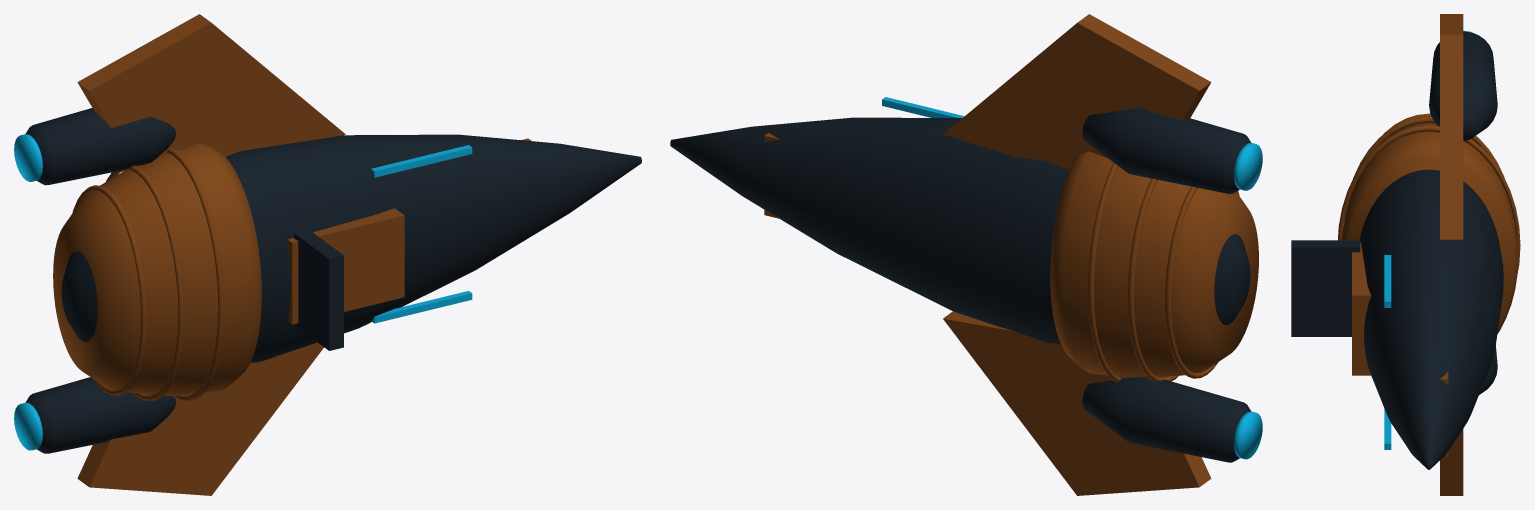
File: SM_AgileShip.obj
3 views of the same model, side by side, from view 1: azimuth 30°, elevation 25°; view 2: azimuth 150°, elevation 25°; view 3: azimuth 270°, elevation 25° (orthographic). The views are drawn at different scales.
Parts seen in each view (by area): view 1: SM_AgileShip; view 2: SM_AgileShip; view 3: SM_AgileShip.
Part boxes in pixels (x1,y1,x2,y2): SM_AgileShip: (14, 14, 641, 495); SM_AgileShip: (670, 14, 1262, 495); SM_AgileShip: (1291, 14, 1520, 495).
Size of the model in its own units: 488 by 370 by 167.
